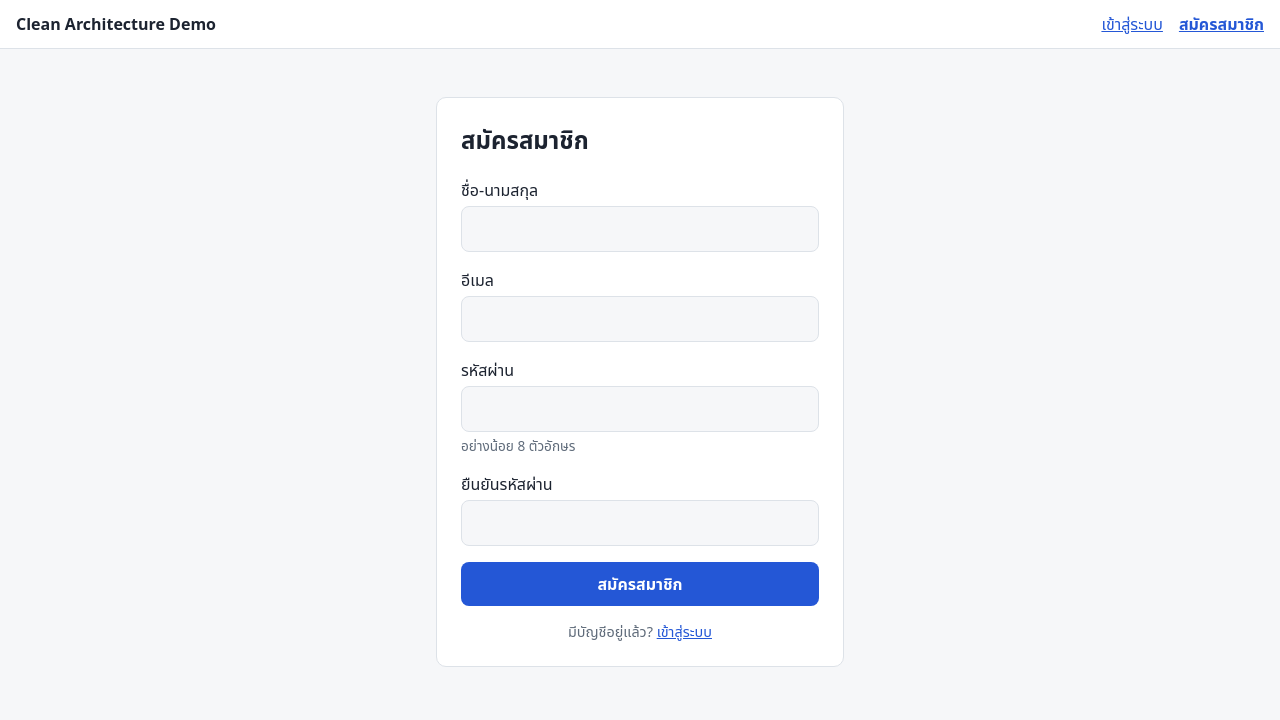
RegisterPage › shows server-side validation errors on the matching field
In the field labelled "ชื่อ-นามสกุล": coordinates (640, 229) [461,206,819,252], type "Jane Doe"
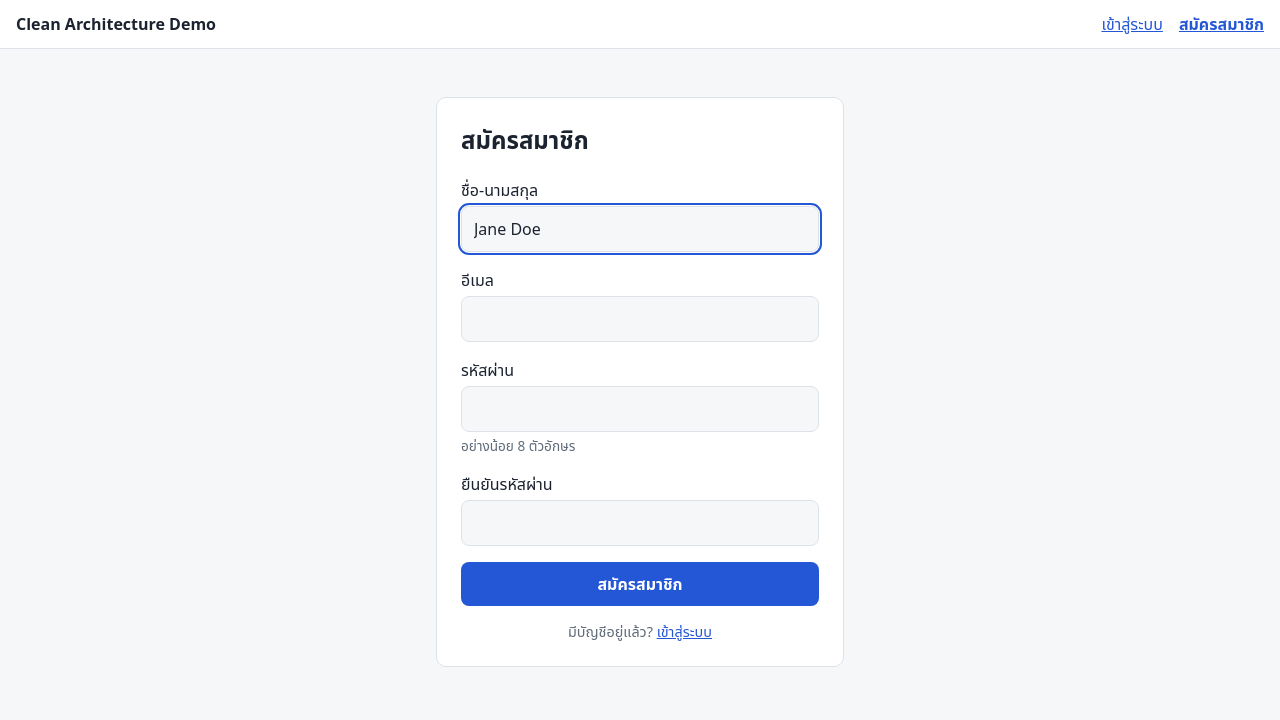
In the field labelled "อีเมล": coordinates (640, 319) [461,296,819,342], type "jane@example.test"
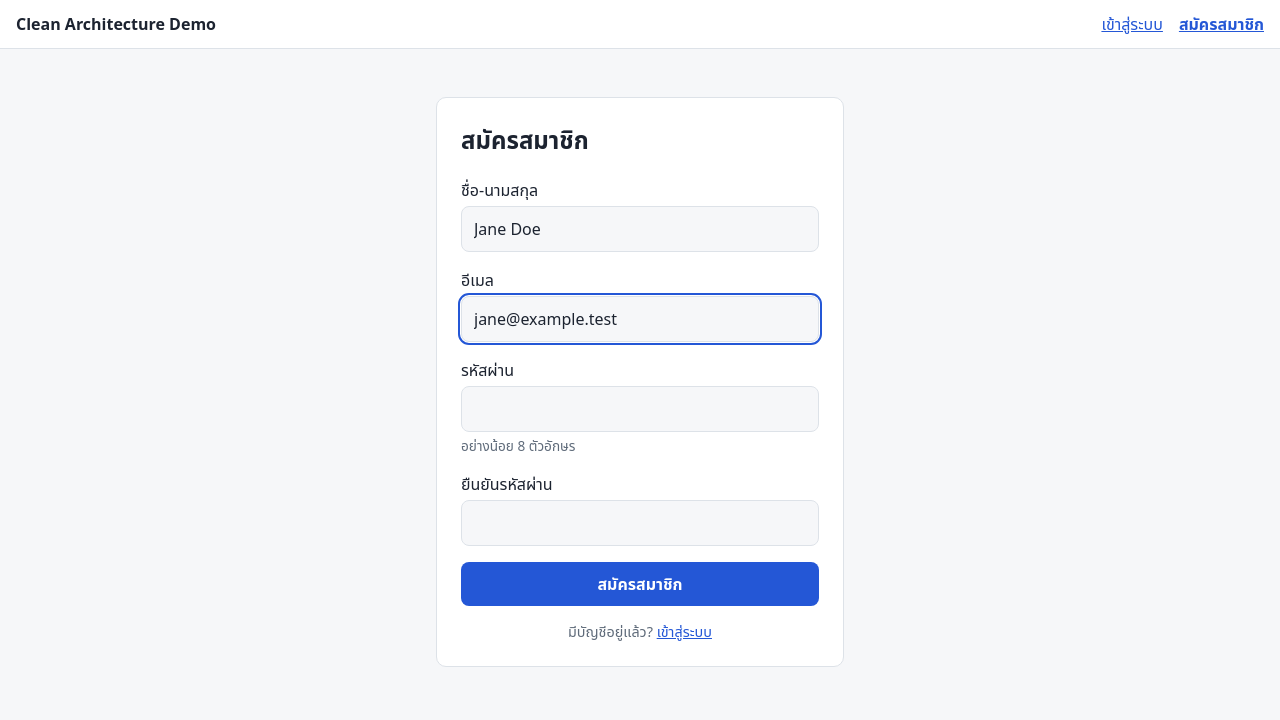
In the password field labelled "รหัสผ่าน": coordinates (640, 409) [461,386,819,432], type "s3cret-pass"
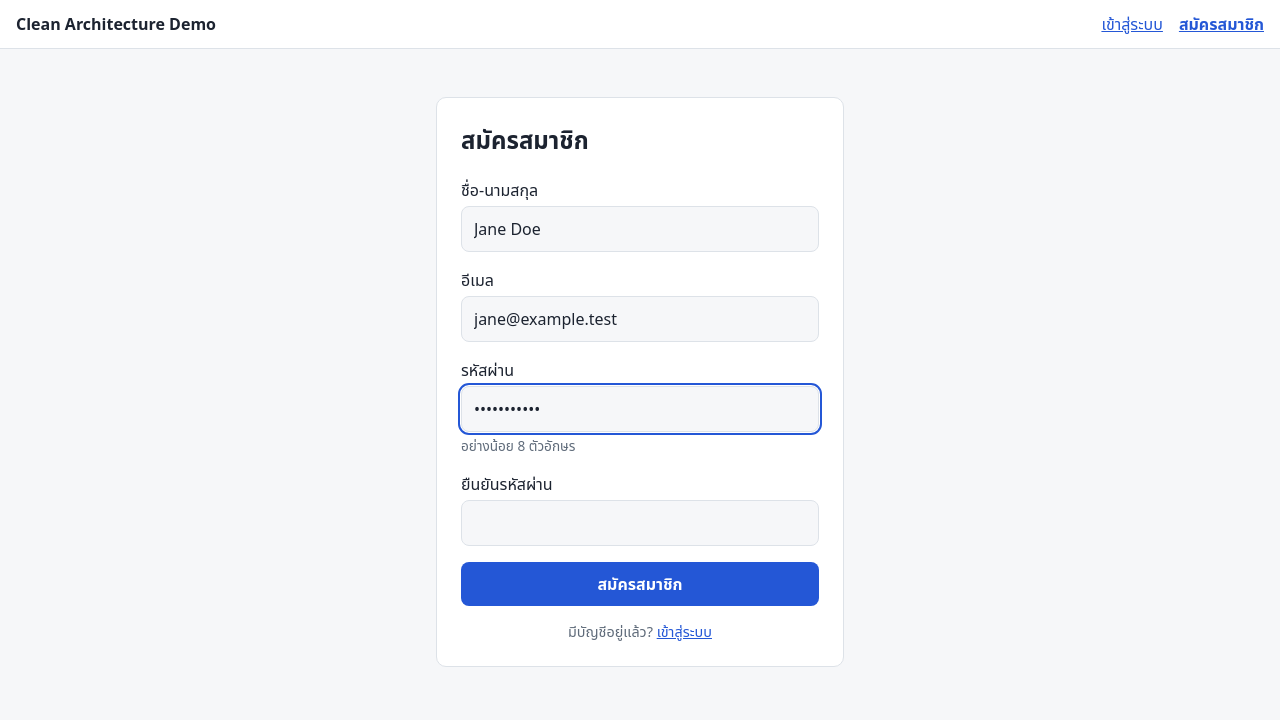
In the password field labelled "ยืนยันรหัสผ่าน": coordinates (640, 523) [461,500,819,546], type "s3cret-pass"
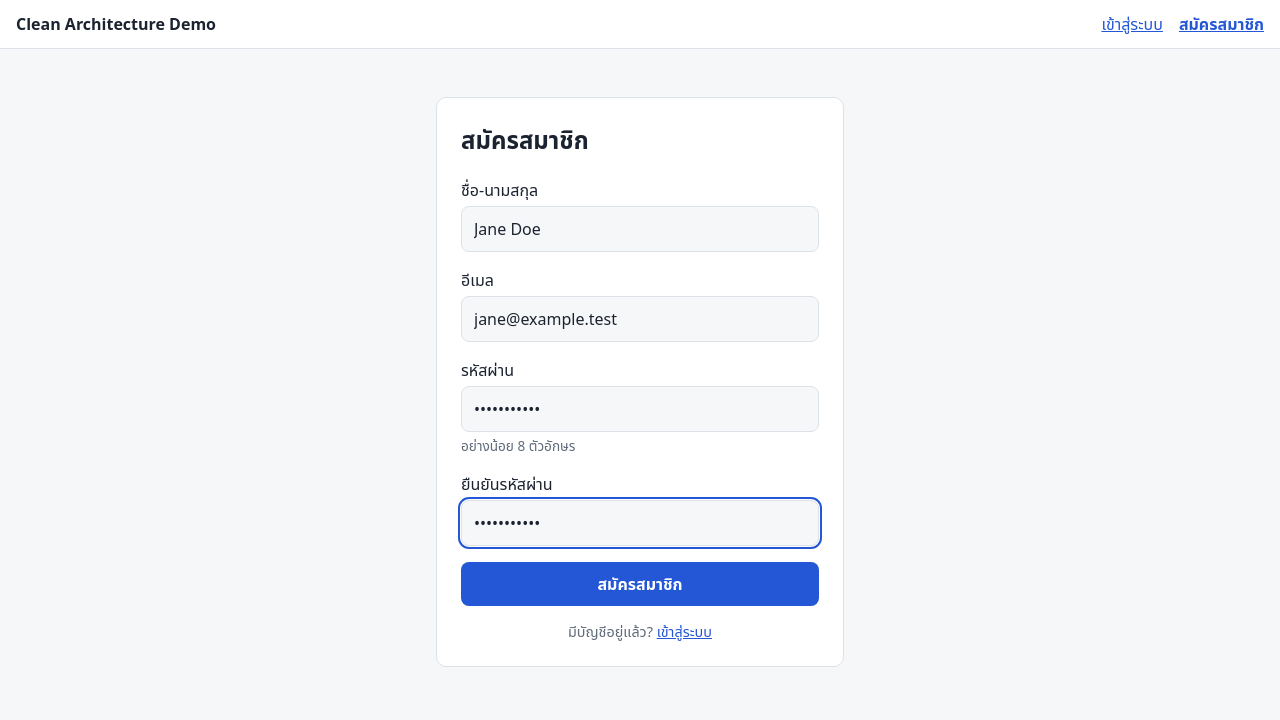
Click the button "สมัครสมาชิก": coordinates (640, 584) [461,562,819,606]
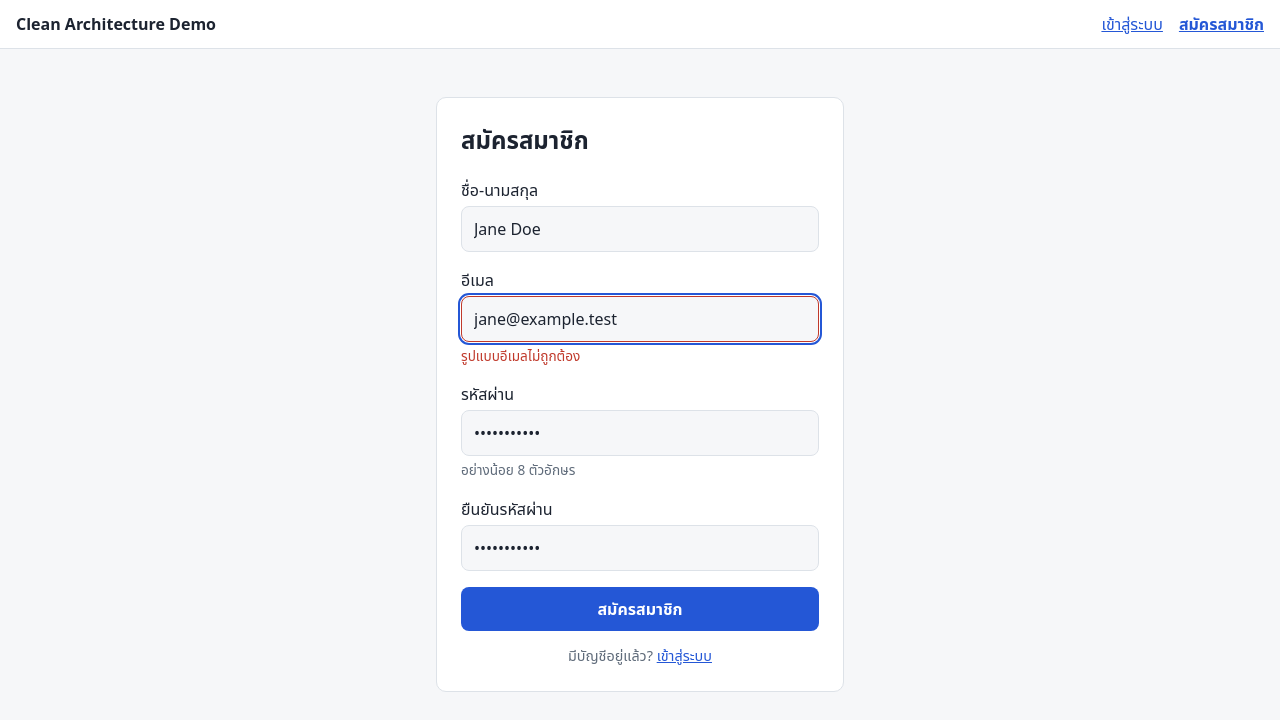
Result: the text "รูปแบบอีเมลไม่ถูกต้อง" is shown at [461,346,580,365]
